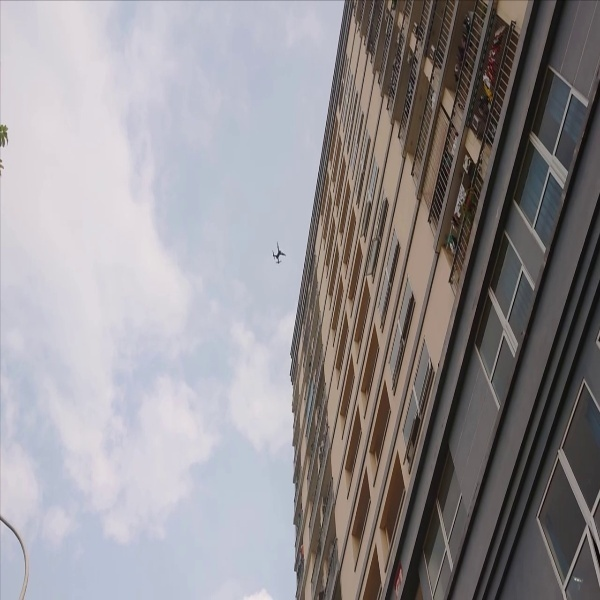drone: (263, 238, 293, 273)
